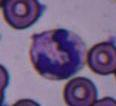N: (29, 28, 86, 80)
